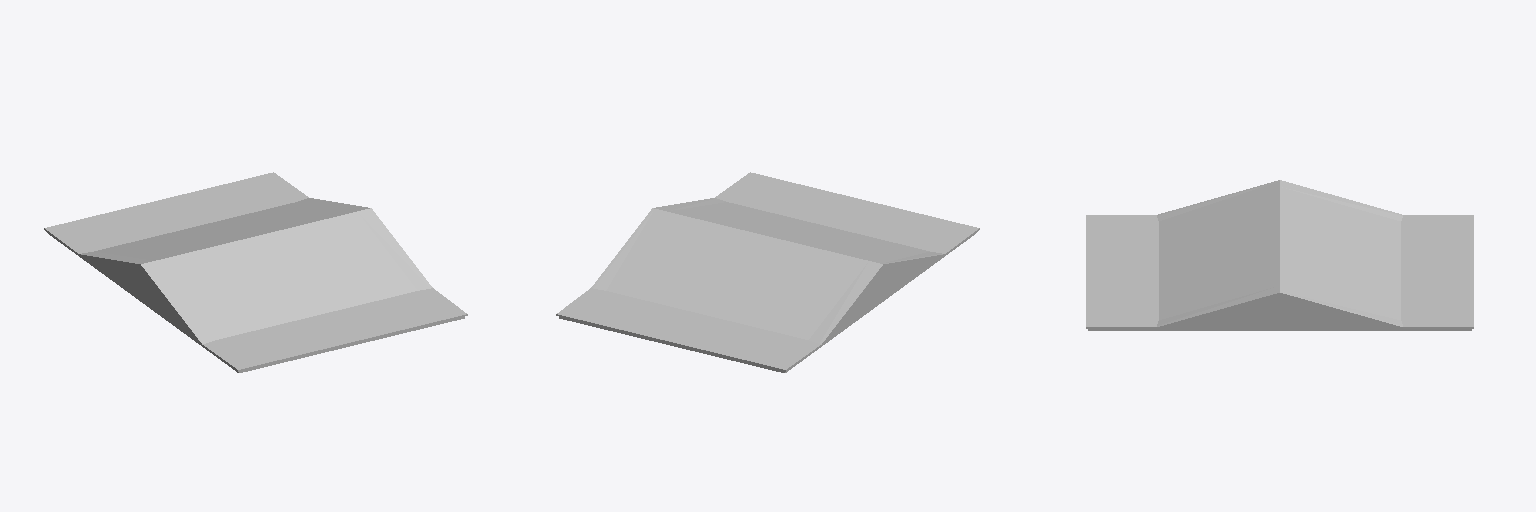
Rendered from BuildingRoof.obj.
The picture shows the model from 3 angles: view 1: azimuth 30°, elevation 25°; view 2: azimuth 150°, elevation 25°; view 3: azimuth 270°, elevation 25°; orthographic projection.
Parts seen in each view (by area): view 1: Cube.005_Cube.007; view 2: Cube.005_Cube.007; view 3: Cube.005_Cube.007.
Part boxes in pixels (bbox=[...]): Cube.005_Cube.007: bbox=[44, 172, 467, 372]; Cube.005_Cube.007: bbox=[556, 172, 979, 372]; Cube.005_Cube.007: bbox=[1086, 180, 1473, 330].
Bounding box in the file's own units: 21.32 × 3.49 × 31.02.